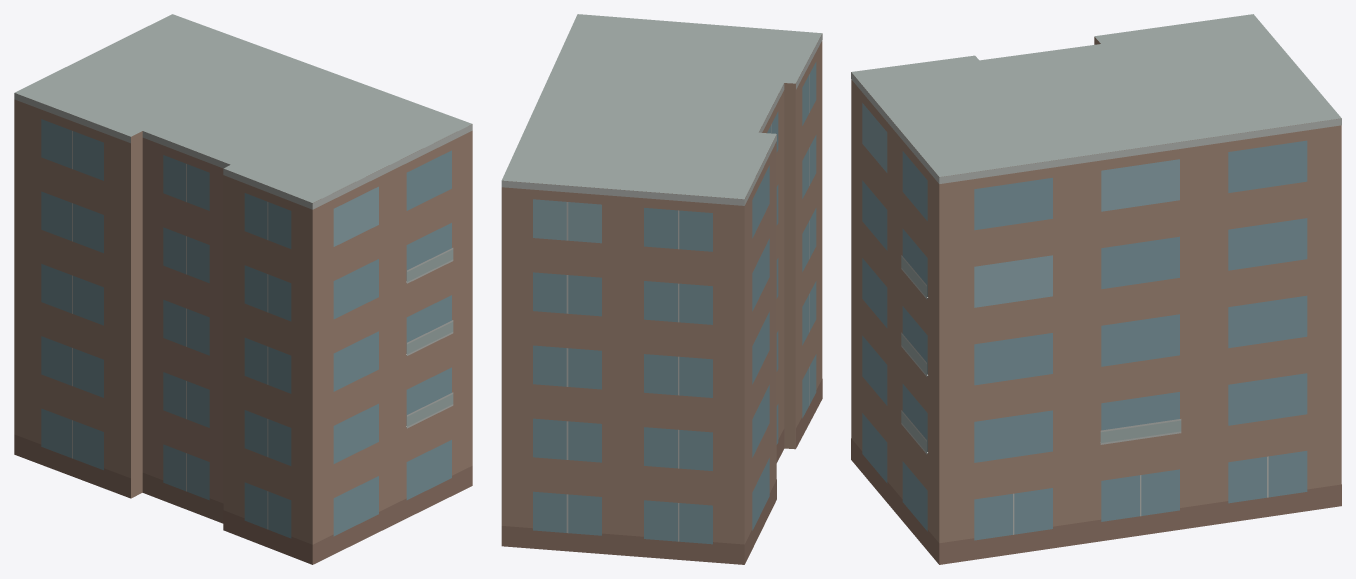
The model's file is survey-upis-32619774.glb.
The picture shows the model from 3 angles, left to right: view 1: azimuth 30°, elevation 25°; view 2: azimuth 150°, elevation 25°; view 3: azimuth 270°, elevation 25°; orthographic projection. The views are drawn at different scales.
Parts seen in each view (by area): view 1: survey-upis-32619774.tmp; view 2: survey-upis-32619774.tmp; view 3: survey-upis-32619774.tmp.
Boxes of the visible parts, x1,y1,x2,y2 form: survey-upis-32619774.tmp: (14, 14, 472, 564); survey-upis-32619774.tmp: (501, 14, 822, 564); survey-upis-32619774.tmp: (851, 14, 1341, 564).
Size of the model in its own units: 12.1 by 13.4 by 15.38.
